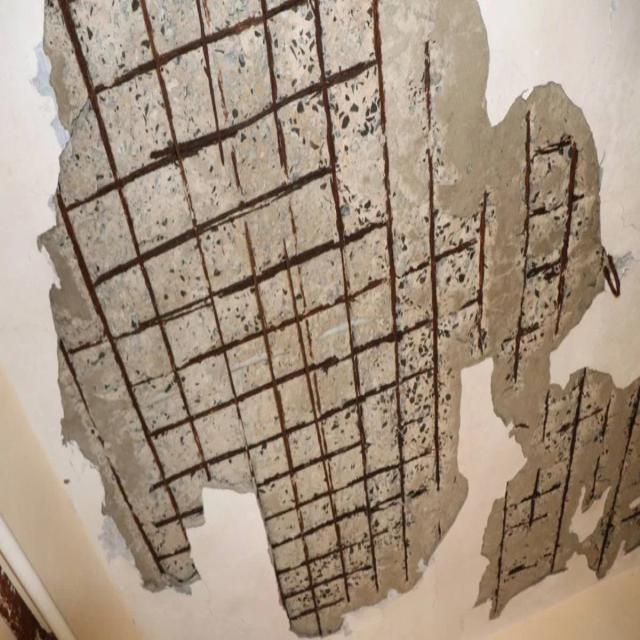Rebar: (35, 4, 640, 640)
